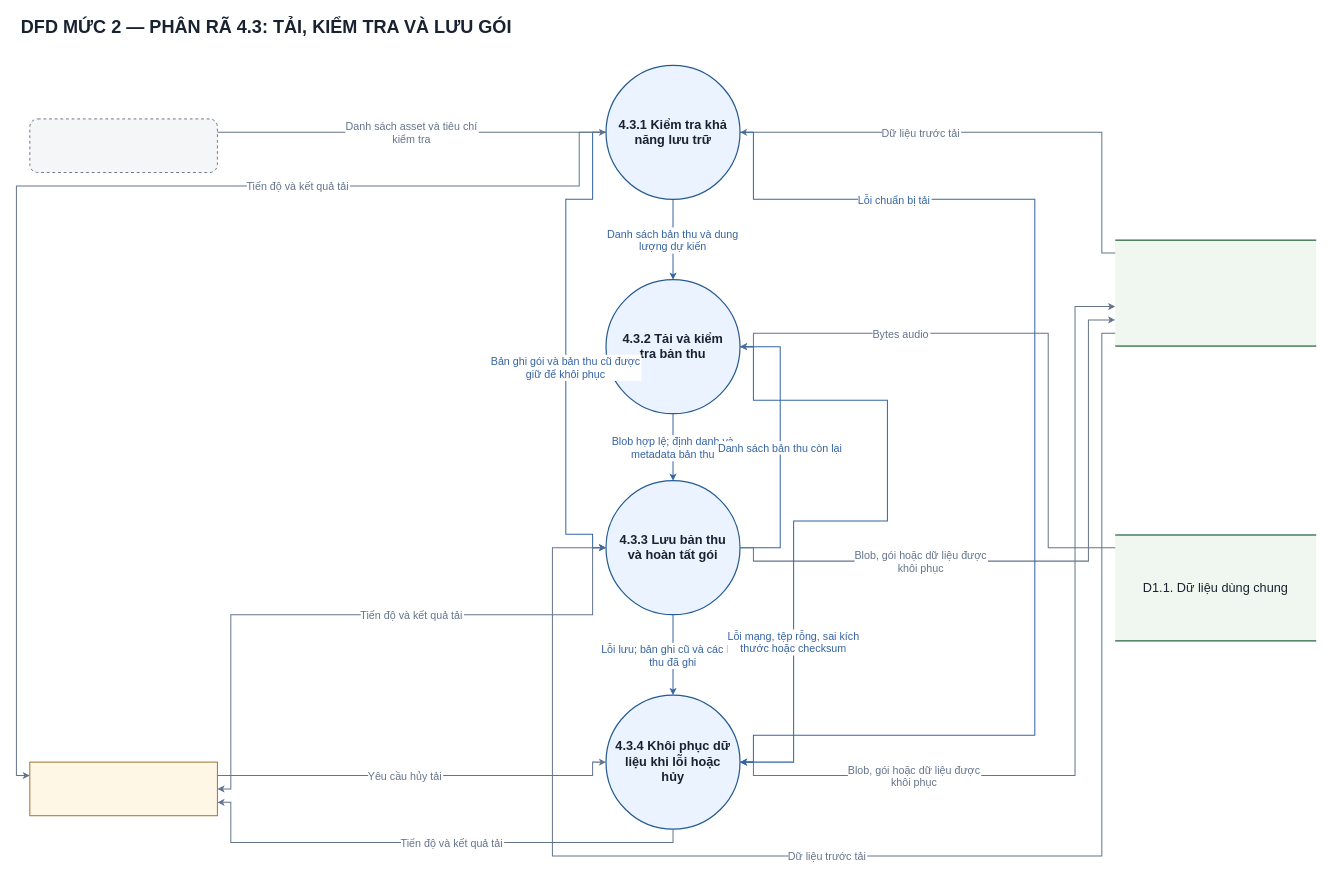
This 1338x874 diagram has some shape labels left out. Each missing label, with the centre of its shape:
"4.2 Đọc manifest" goes at point 123,145.
"D1.2. Dữ liệu trên thiết bị" goes at point 1215,292.
"E1. Khách" goes at point 123,788.
